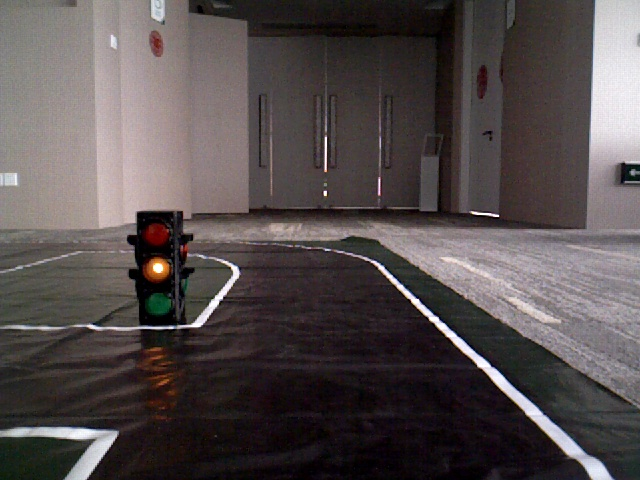yellow: (139, 212, 176, 319)
